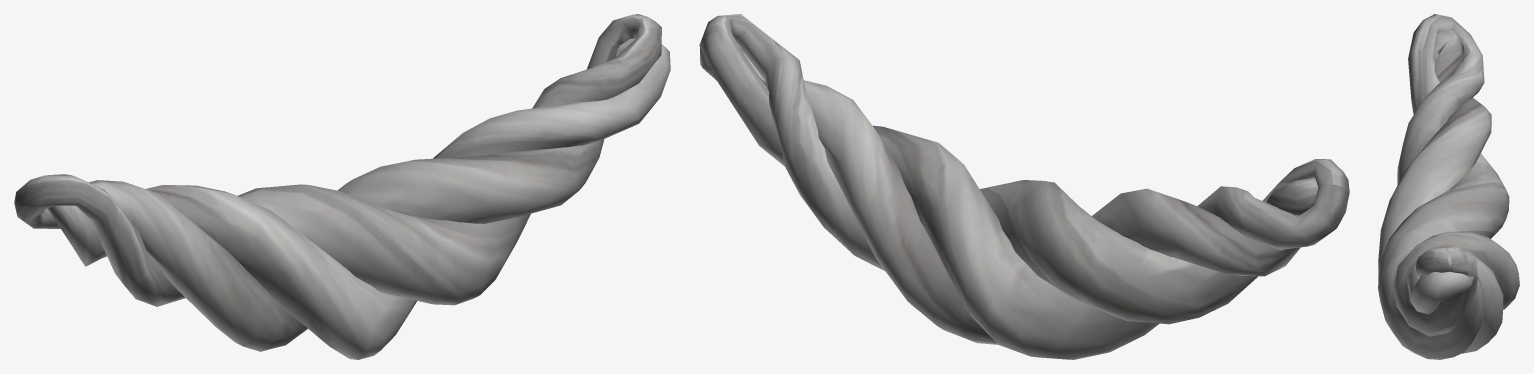
Rendered from SM_ENV_KNFRST_Rope_A.FBX.
The picture shows the model from 3 angles, left to right: view 1: azimuth 30°, elevation 25°; view 2: azimuth 150°, elevation 25°; view 3: azimuth 270°, elevation 25°; orthographic projection. The views are drawn at different scales.
Visible parts, largest first — view 1: SM_ENV_KNFRST_Rope_A; view 2: SM_ENV_KNFRST_Rope_A; view 3: SM_ENV_KNFRST_Rope_A.
Part boxes in pixels (left/top/right/bottom): SM_ENV_KNFRST_Rope_A: left=14, top=14, right=670, bottom=359; SM_ENV_KNFRST_Rope_A: left=699, top=14, right=1349, bottom=359; SM_ENV_KNFRST_Rope_A: left=1378, top=14, right=1519, bottom=359.
Size of the model in its own units: 870 by 335 by 202.
